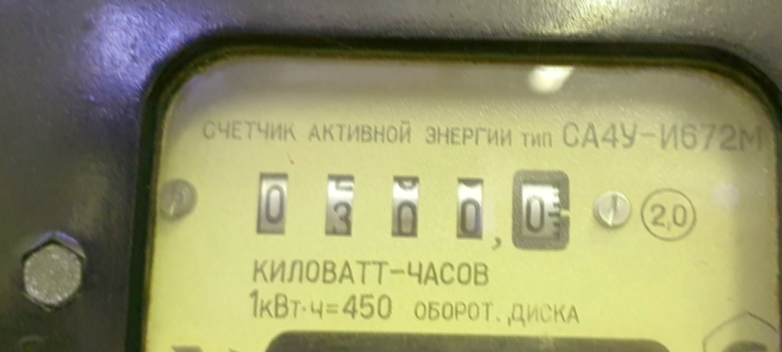0: (455, 194, 481, 238), (260, 179, 284, 225), (519, 191, 544, 234), (391, 196, 415, 237)
3: (327, 197, 350, 236)
screen: (233, 148, 588, 265)
